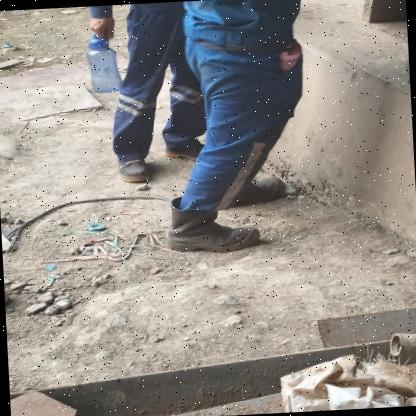bota: (159, 192, 261, 258), (233, 170, 294, 206), (162, 132, 215, 160), (112, 143, 148, 183)
